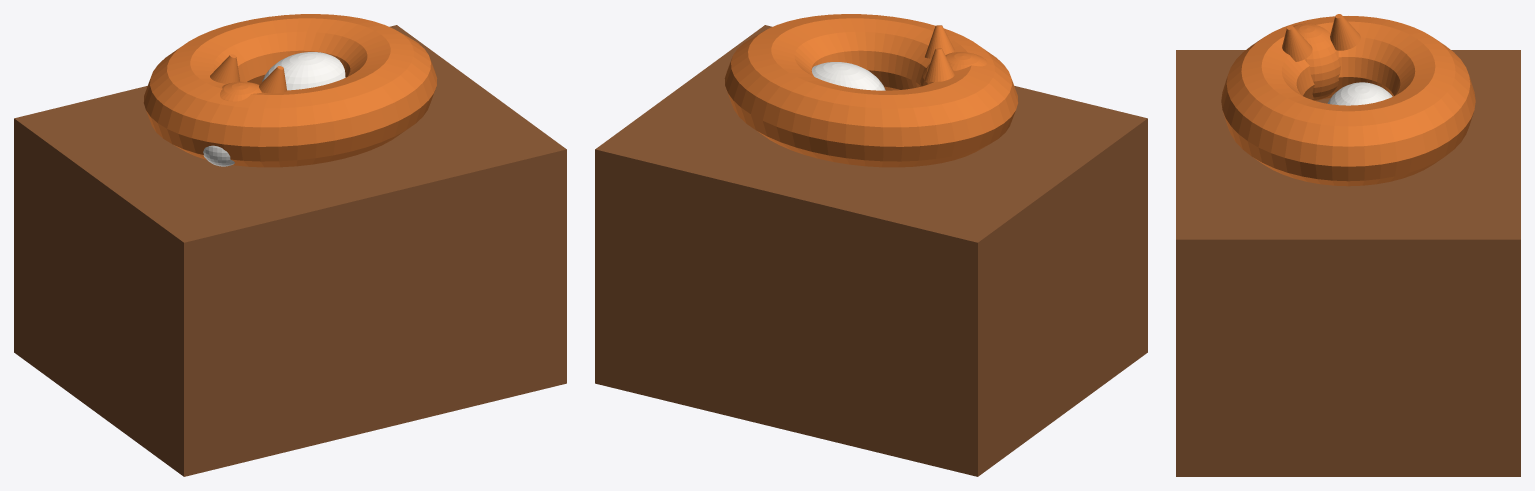
The model's file is cat-on-crate.glb.
3 renders of one model, left to right at view 1: azimuth 30°, elevation 25°; view 2: azimuth 150°, elevation 25°; view 3: azimuth 270°, elevation 25°, orthographic.
Visible parts, largest first — view 1: Cube, Torus, Sphere, Sphere.001, Cone; view 2: Cube, Torus, Sphere, Sphere.001, Cone; view 3: Cube, Torus, Sphere.001, Sphere, Cone, Cone.001.
Boxes of the visible parts, x1,y1,x2,y2 form: Cube: (14, 25, 566, 476); Torus: (143, 14, 437, 167); Sphere: (262, 52, 345, 90); Sphere.001: (220, 81, 261, 101); Cone: (210, 54, 239, 83); Cube: (595, 25, 1147, 476); Torus: (724, 14, 1018, 167); Sphere: (811, 62, 885, 90); Sphere.001: (919, 52, 987, 86); Cone: (924, 48, 954, 81); Cube: (1176, 50, 1520, 476); Torus: (1221, 16, 1475, 186); Sphere.001: (1293, 23, 1340, 101); Sphere: (1327, 82, 1392, 105); Cone: (1330, 14, 1360, 50); Cone.001: (1282, 25, 1312, 61).
Bounding box in the file's own units: 0.65 × 0.538 × 0.5.
